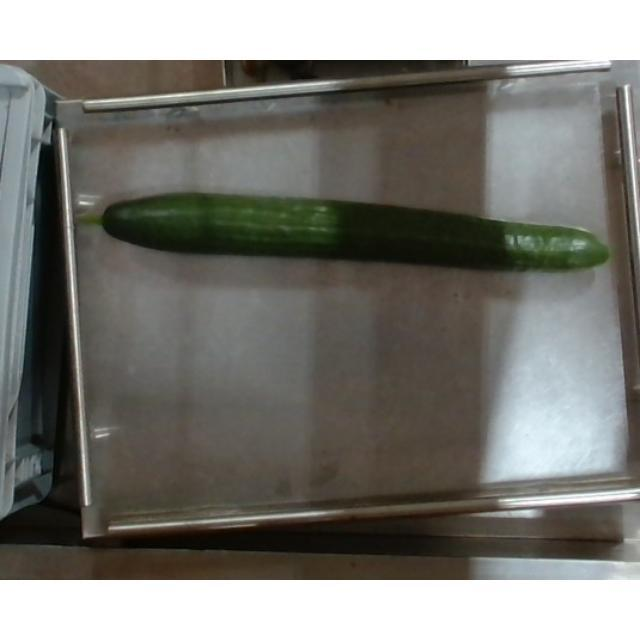cucumber: (78, 183, 614, 277)
